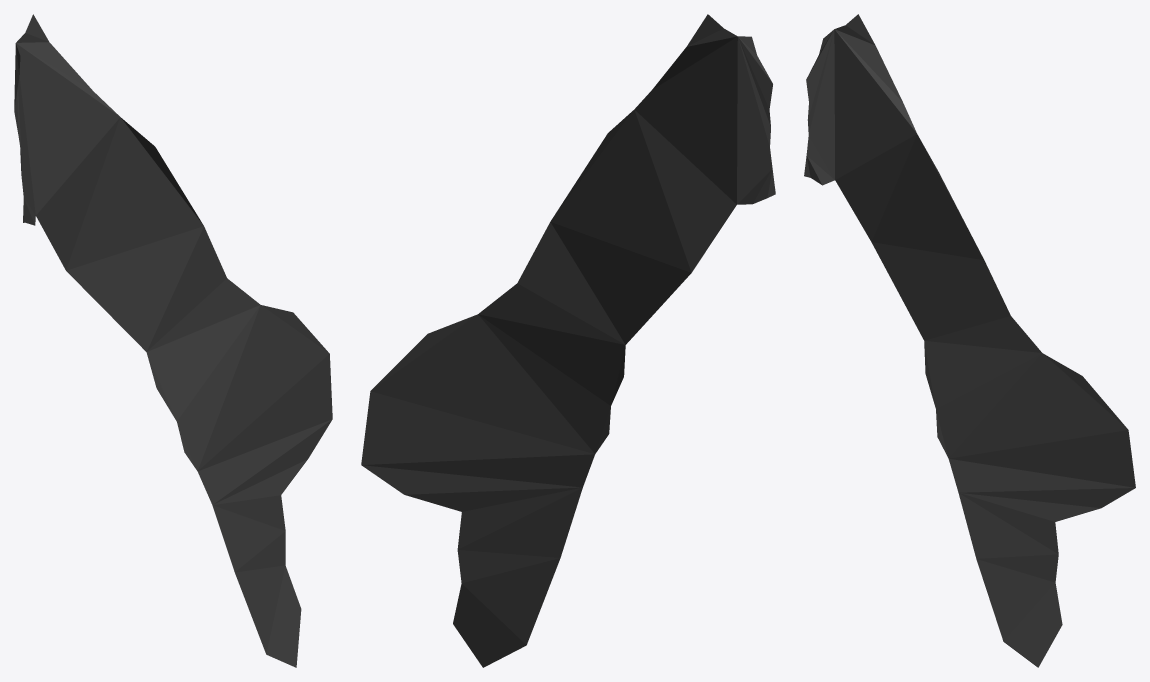
The model's file is A_unused5_Group43917.glb.
3 renders of one model, left to right at view 1: azimuth 30°, elevation 25°; view 2: azimuth 150°, elevation 25°; view 3: azimuth 330°, elevation 25°, orthographic. The views are drawn at different scales.
Parts seen in each view (by area): view 1: A_unused5_Group43917; view 2: A_unused5_Group43917; view 3: A_unused5_Group43917.
Boxes of the visible parts, x1,y1,x2,y2 form: A_unused5_Group43917: [14, 14, 332, 667]; A_unused5_Group43917: [361, 14, 775, 667]; A_unused5_Group43917: [804, 14, 1135, 667].
Bounding box in the file's own units: 0.00463 × 0.00867 × 0.00102.
1 material, 1 textured.
